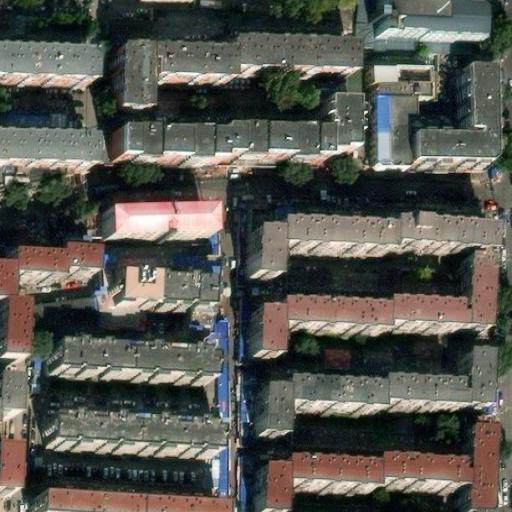building: (408, 83, 493, 180), (109, 41, 222, 109), (383, 277, 490, 347), (114, 121, 322, 153), (42, 358, 200, 399), (37, 432, 206, 467), (222, 35, 347, 69), (33, 489, 223, 511), (383, 17, 485, 56), (257, 323, 384, 352), (292, 448, 384, 486), (0, 40, 88, 78), (275, 246, 389, 275), (104, 213, 210, 244), (389, 247, 494, 277), (368, 104, 409, 179), (467, 418, 500, 510), (291, 373, 389, 403), (0, 131, 86, 163), (383, 450, 469, 481), (389, 370, 469, 401), (147, 275, 203, 310), (369, 72, 427, 105), (468, 354, 498, 401), (108, 277, 149, 311), (267, 460, 294, 511), (322, 94, 351, 141), (251, 253, 275, 302), (267, 380, 291, 428), (0, 375, 24, 420), (0, 448, 20, 497), (47, 274, 84, 300), (149, 0, 198, 16), (153, 91, 180, 117)
